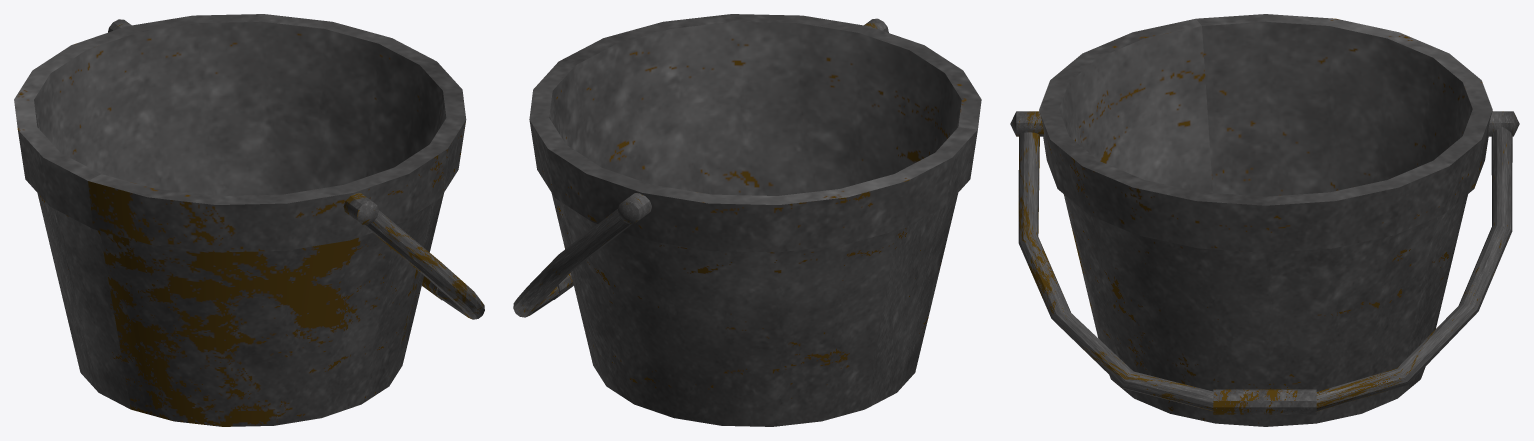
The model's file is m_bucket.fbx.
The picture shows the model from 3 angles, left to right: view 1: azimuth 30°, elevation 25°; view 2: azimuth 150°, elevation 25°; view 3: azimuth 270°, elevation 25°; orthographic projection.
Parts seen in each view (by area): view 1: bucket; view 2: bucket; view 3: bucket.
Boxes of the visible parts, x1,y1,x2,y2 form: bucket: (14, 14, 484, 426); bucket: (513, 14, 981, 426); bucket: (1010, 14, 1519, 426).
Bounding box in the file's own units: 122 × 74.06 × 137.
